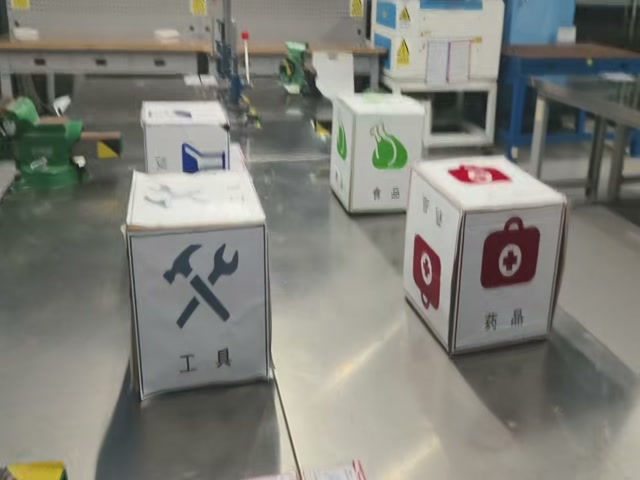Cube_food: (335, 93, 424, 117)
Cube_ins: (141, 101, 229, 128)
Cube_medicine: (415, 157, 566, 209)
Cube_tool: (126, 171, 265, 230)
